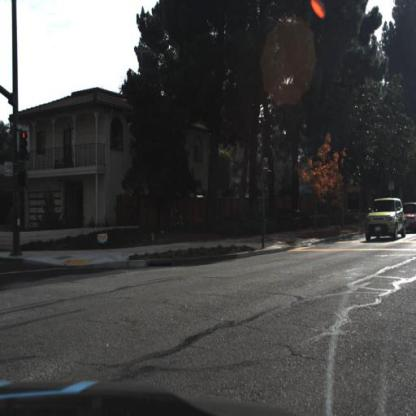car: (366, 196, 408, 242)
trafficLight-Red: (19, 125, 31, 167)
